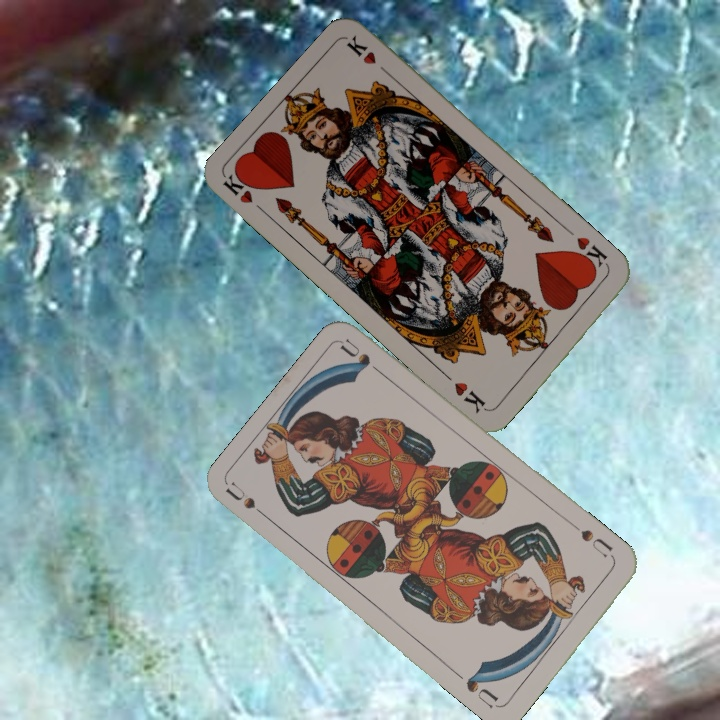HK: (219, 167, 271, 218), (568, 232, 613, 275)
SU: (223, 479, 275, 525), (568, 520, 618, 563)
